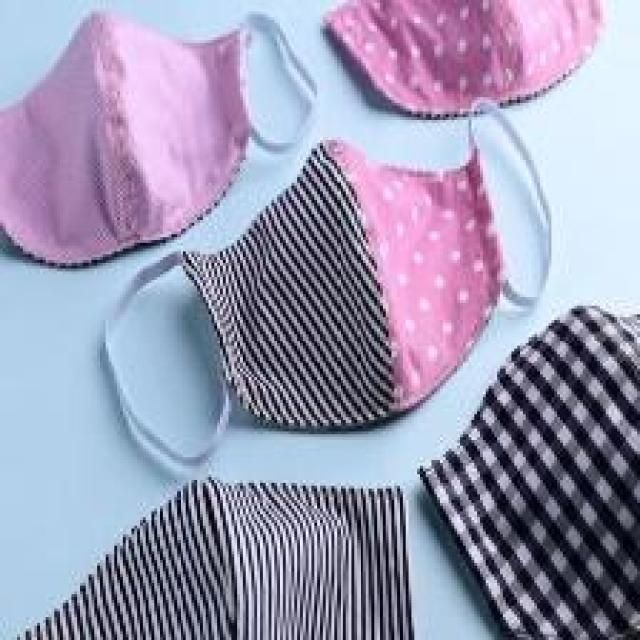Mask: (122, 140, 616, 440), (7, 5, 325, 255), (424, 279, 640, 640), (92, 441, 450, 640), (301, 0, 606, 130)
